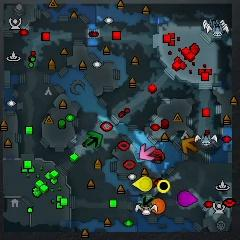p3: (178, 190, 197, 207)
p4: (132, 175, 152, 192)
p4Clone: (158, 179, 170, 194)
p5: (151, 198, 166, 214)
x1: (140, 144, 156, 161)
x4: (88, 130, 103, 150)
x4Clone: (86, 136, 99, 148), (143, 195, 155, 207)
x5: (181, 138, 198, 154)
